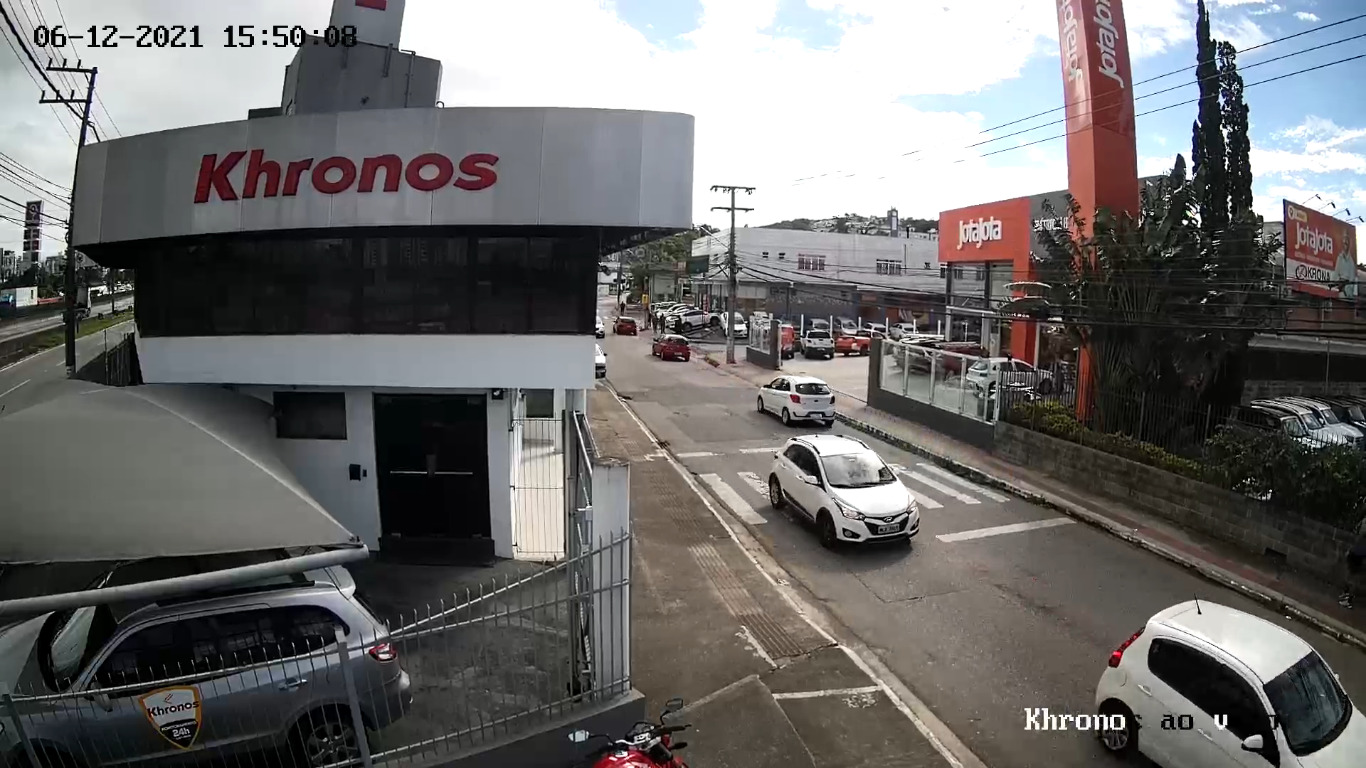car: (1093, 599, 1366, 768), (770, 434, 920, 547)
